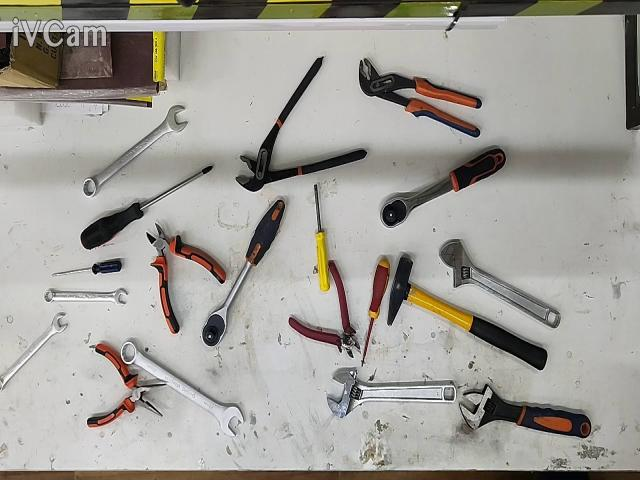Adjustable spanner: (440, 240, 561, 328), (459, 384, 591, 438), (327, 369, 456, 418)
Cutting pliers: (146, 223, 226, 335), (289, 260, 360, 358)
Gas wrench: (235, 57, 368, 192), (359, 58, 481, 138)
Hammer: (387, 257, 548, 370)
Needle-nose pliers: (87, 343, 167, 428)
Ratchet: (202, 200, 285, 346), (381, 148, 506, 228)
Screwdriver: (80, 166, 212, 250), (361, 257, 390, 370), (314, 185, 330, 292), (52, 261, 121, 277)
Wrench: (120, 340, 244, 436), (82, 105, 188, 197), (0, 312, 68, 392), (45, 288, 128, 307)
